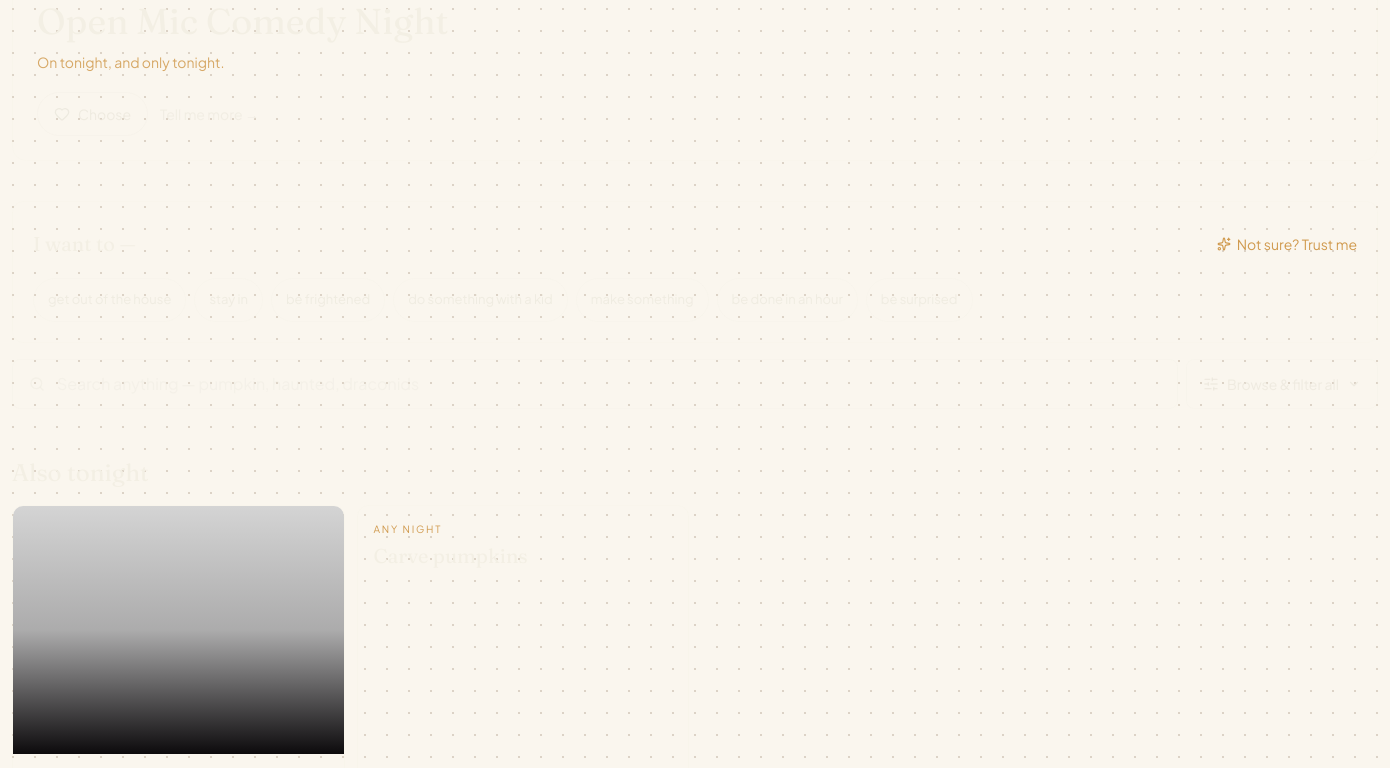
Test: nothing matching is not a dead end › says so and leaves every way out on screen
(page scrolled)
Step 1. Type "snowmobiling" into the field named "search everything" → [609, 384], box [57, 372, 1161, 396]
(page scrolled)
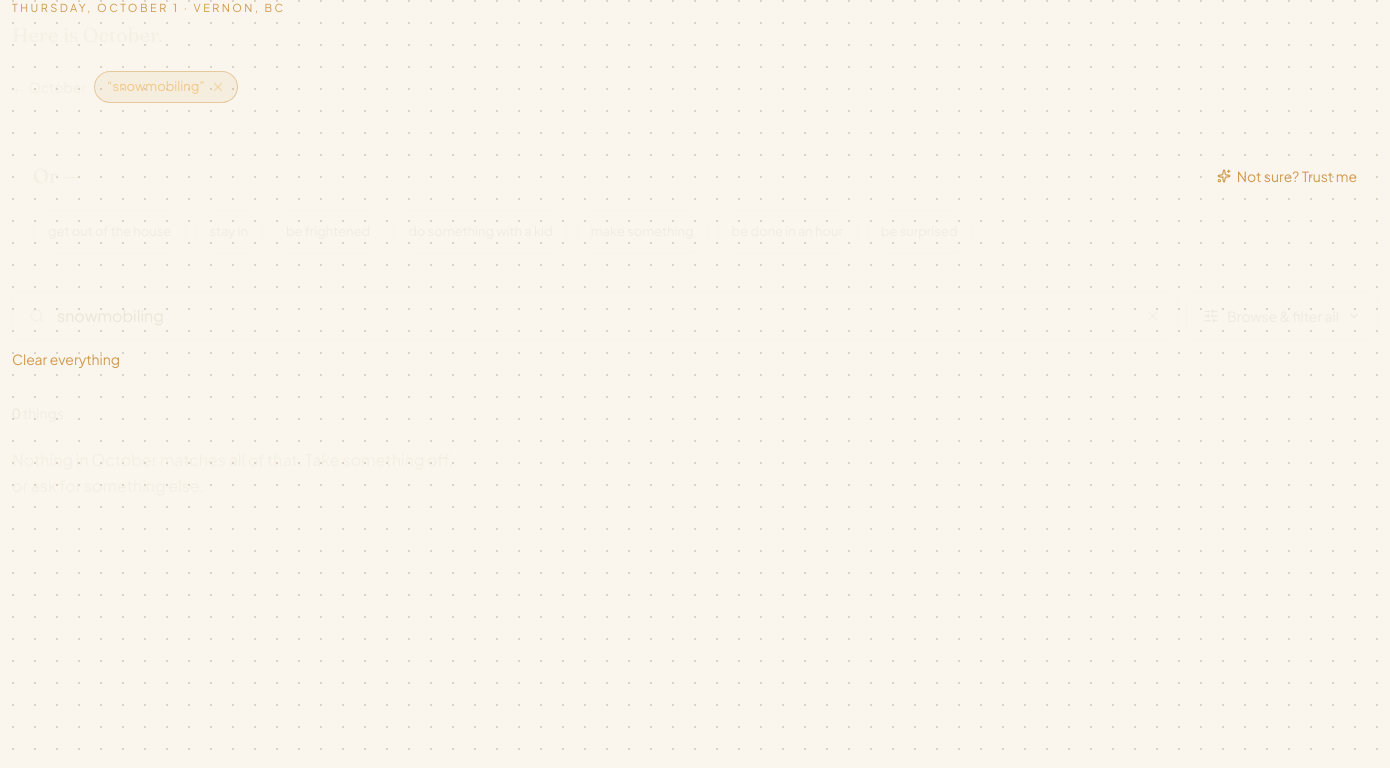
Now the text "Nothing in October matches" is shown, box [12, 448, 453, 496]
Now the button "Clear everything" is shown, box [12, 348, 120, 368]
